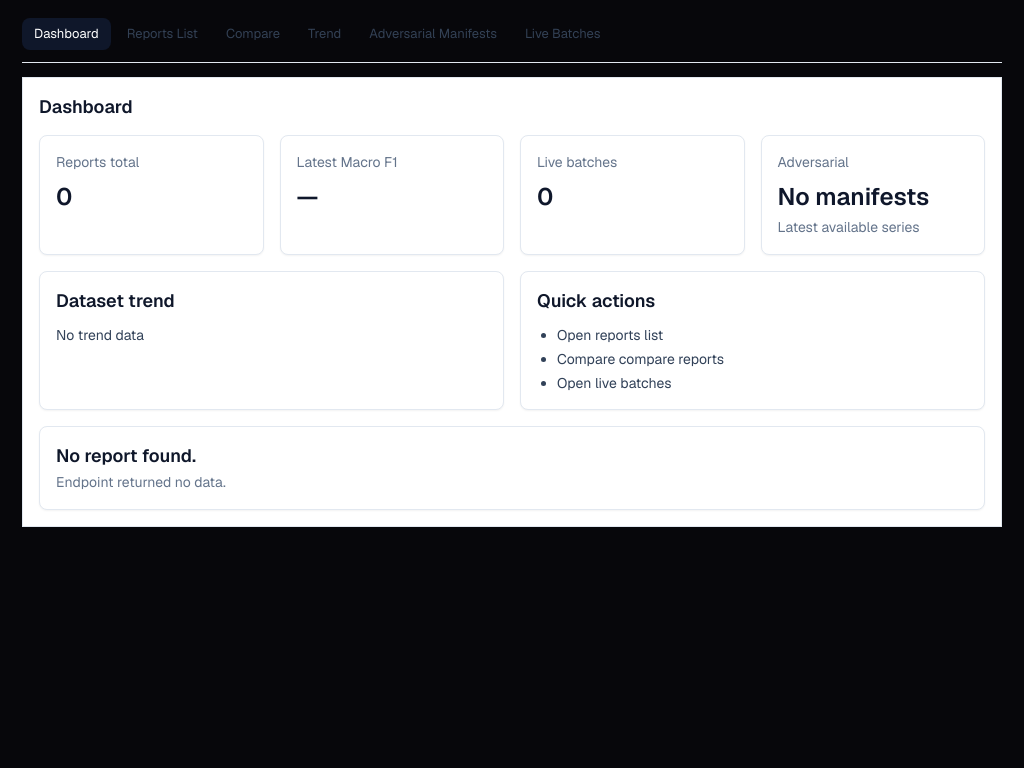
Test: EvalHarnessUiApp (cross-mount) › navigates to /reports when the Reports nav link is clicked (BrowserRouter wired)
Expected: the element with test id "admin-eval-harness-dashboard" is shown, x1=39 y1=94 x2=985 y2=510
Click the link with test id "admin-eval-harness-nav-reports".
click(162, 34)  # box x1=127 y1=25 x2=198 y2=42
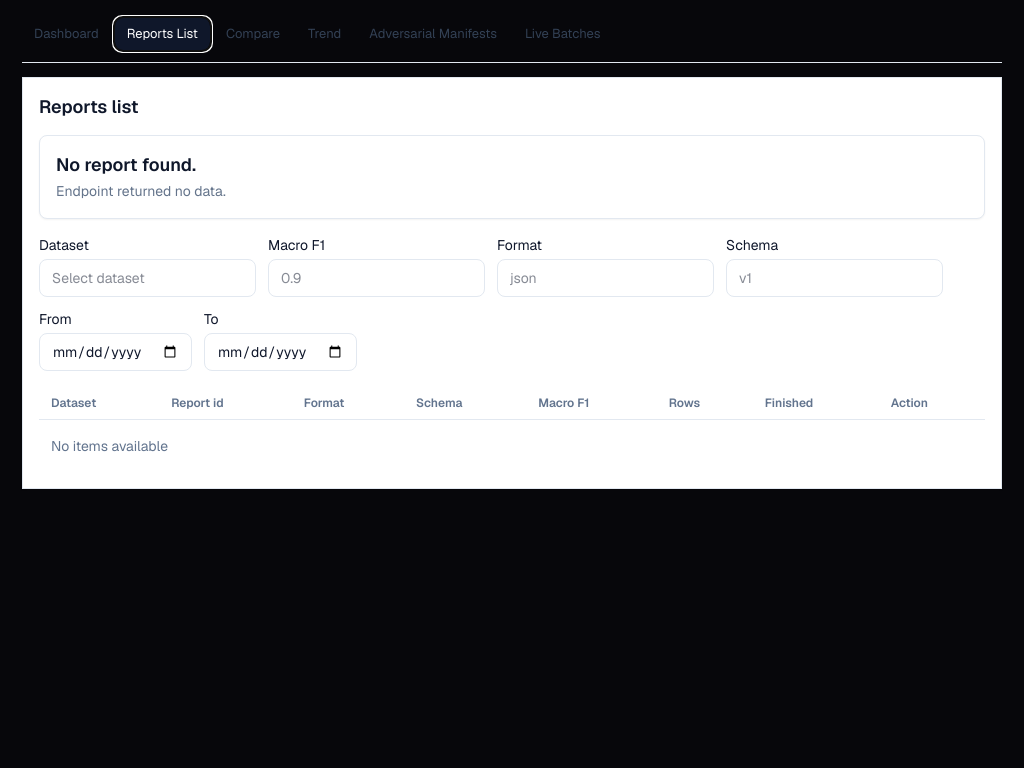
Expected: the element with test id "admin-eval-harness-reports" is shown, x1=39 y1=94 x2=985 y2=472
Expected: the element with test id "admin-eval-harness-dashboard" is gone
